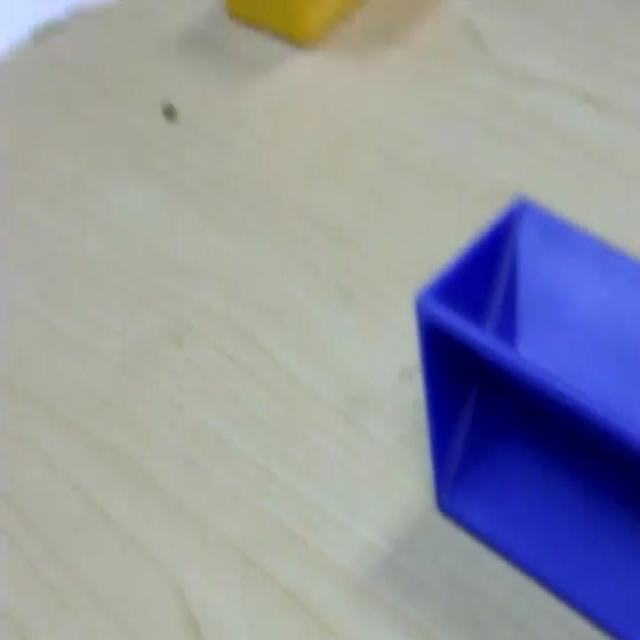blue_block: (414, 189, 638, 636)
yellow_block: (225, 0, 362, 47)
